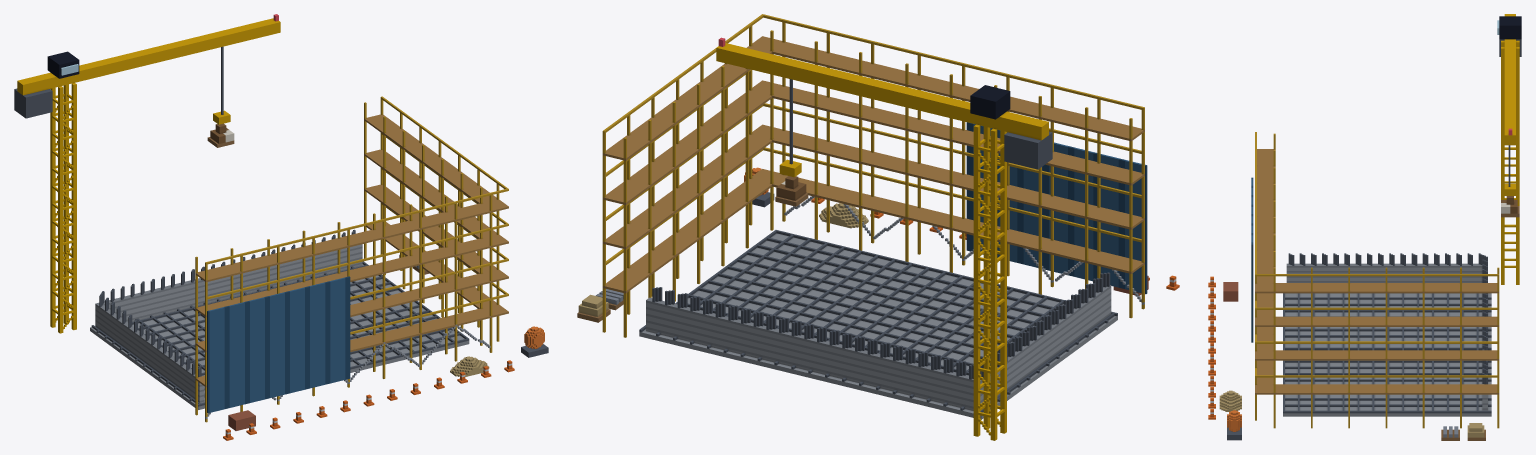
The model's file is workshop_scaffold.glb.
The picture shows the model from 3 angles, left to right: view 1: azimuth 30°, elevation 25°; view 2: azimuth 150°, elevation 25°; view 3: azimuth 270°, elevation 25°; orthographic projection. The views are drawn at different scales.
Visible parts, largest first — view 1: Base; view 2: Base; view 3: Base.
Part boxes in pixels (x1,y1,x2,y2): Base: (14, 14, 548, 440); Base: (577, 14, 1179, 440); Base: (1208, 14, 1521, 440).
Bounding box in the file's own units: 22.9 × 15.4 × 16.8.
